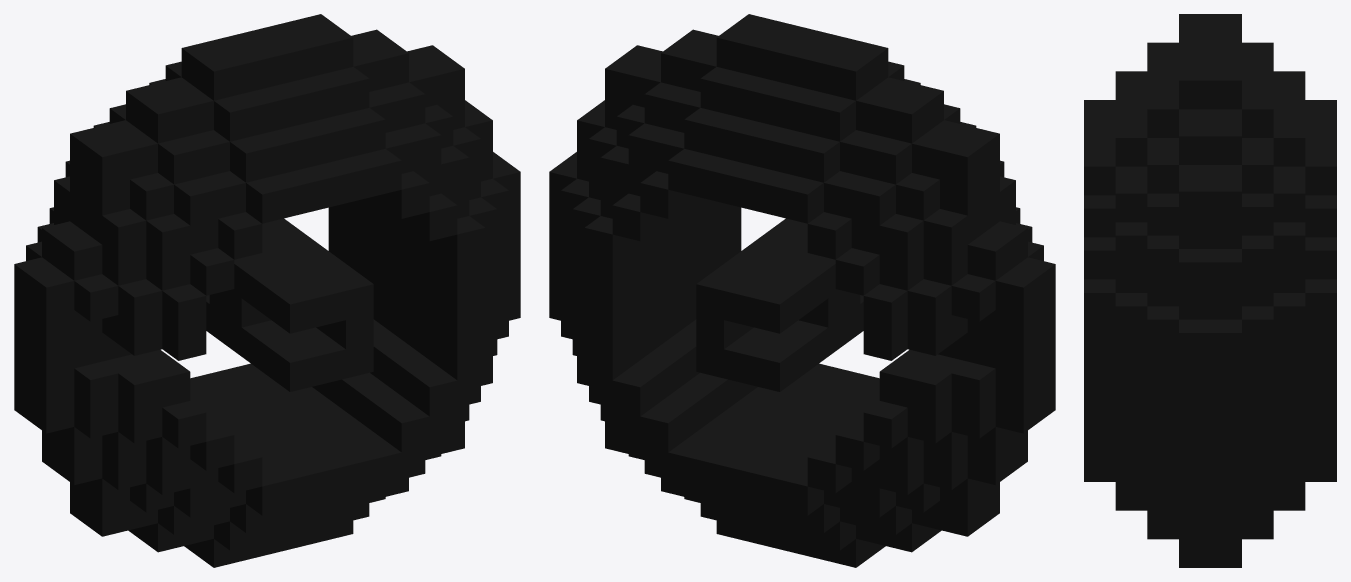
File: Moto_llantaAtras.obj
3 views of the same model, side by side, from view 1: azimuth 30°, elevation 25°; view 2: azimuth 150°, elevation 25°; view 3: azimuth 270°, elevation 25° (orthographic).
Visible parts, largest first — view 1: Moto_llantaAtras; view 2: Moto_llantaAtras; view 3: Moto_llantaAtras.
Boxes of the visible parts, x1,y1,x2,y2 form: Moto_llantaAtras: (14,14,520,567); Moto_llantaAtras: (549,14,1055,567); Moto_llantaAtras: (1084,14,1336,567).
Size of the model in its own units: 1.7 by 1.7 by 0.8.
1 material, 1 textured.
